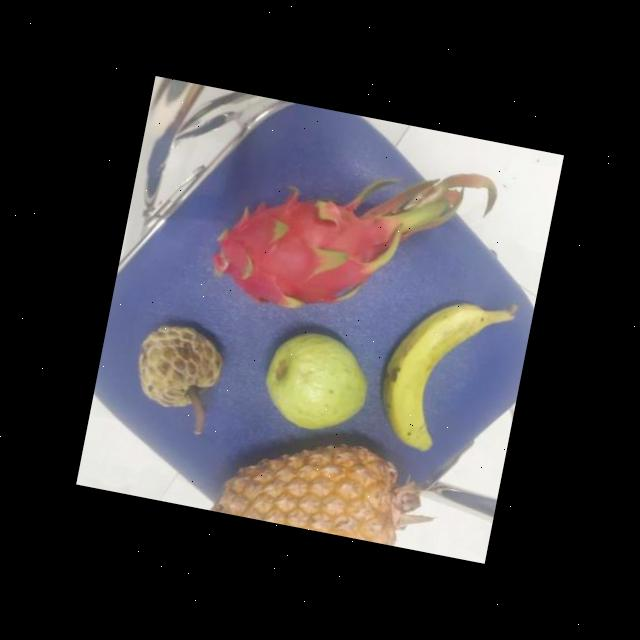Sakya fruit: (126, 316, 228, 418)
banana: (366, 286, 502, 462)
guava: (254, 327, 376, 438)
pineapple: (210, 420, 410, 546)
pitaya: (201, 174, 400, 330)
